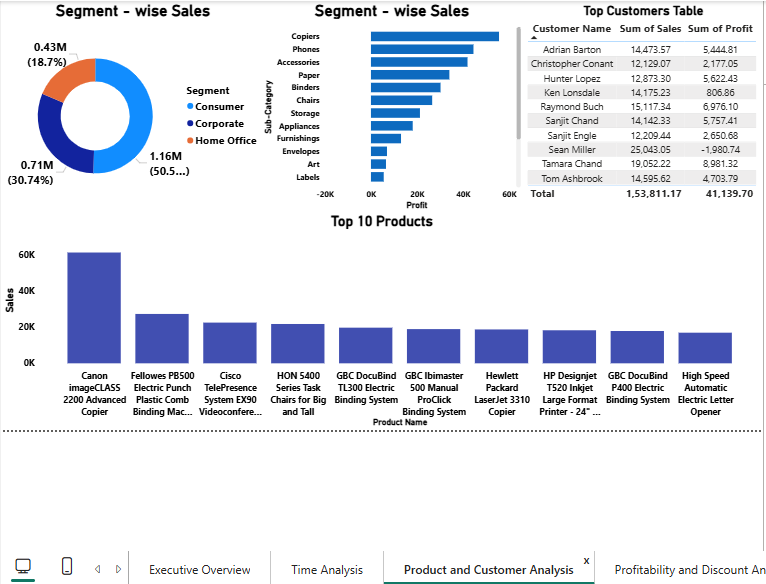

This screenshot's page, from the dashboard's own definition file:
{"tool":"powerbi","page":{"name":"Product and Customer Analysis","canvas":[1280,720],"ordinal":2},"visuals":[{"type":"columnChart","title":"Top 10 Products","fields":{"Y":["Sum(Retail.Sales)"],"Category":["Retail.Product Name"]},"box":[0,356.1,1280,364.5],"z":0},{"type":"donutChart","title":"Segment - wise Sales","fields":{"Y":["Sum(Retail.Sales)"],"Category":["Retail.Segment"]},"box":[0,0,443.5,356.1],"z":1},{"type":"tableEx","title":"Top Customers Table","fields":{"Values":["Retail.Customer Name","Sum(Retail.Sales)","Sum(Retail.Profit)"]},"box":[878.5,3.4,401.5,356.1],"z":2},{"type":"barChart","title":"Segment - wise Sales","fields":{"Category":["Retail.Sub-Category"],"Y":["Sum(Retail.Profit)"]},"box":[435.1,0,443.5,356.1],"z":3}]}

Visuals, with their boxes on the page's 1280x720 design canvas (x1, y1, x2, y2). These are canvas units, not pixel positions in the 766x584 screenshot, which may show the page scaled, cropped or inside an application window:
"Top 10 Products" columnChart: region(0, 356, 1280, 721)
"Segment - wise Sales" donutChart: region(0, 0, 444, 356)
"Top Customers Table" tableEx: region(878, 3, 1280, 360)
"Segment - wise Sales" barChart: region(435, 0, 879, 356)
